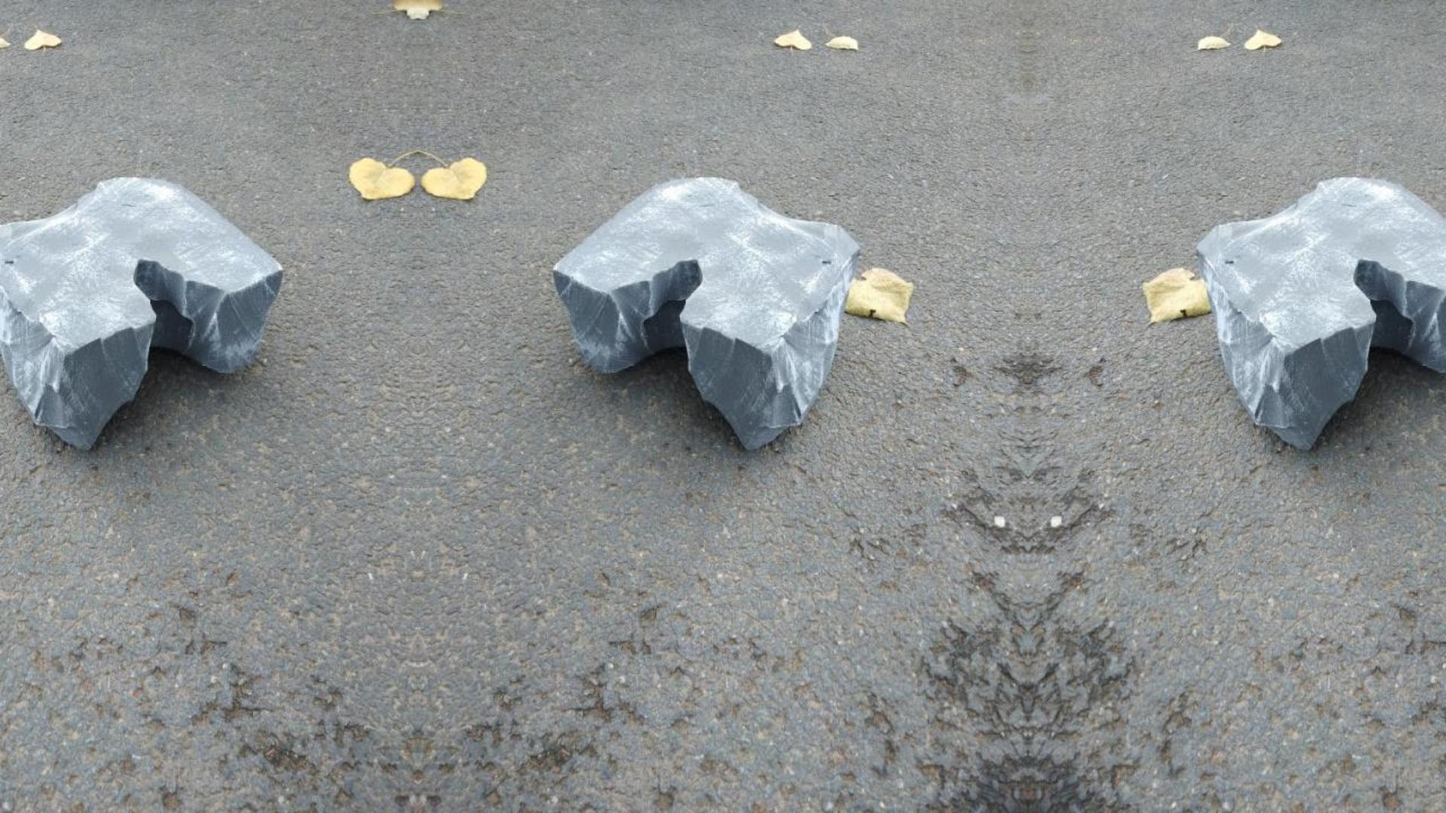rock: (554, 177, 859, 448), (0, 177, 281, 447), (1197, 177, 1445, 448)
